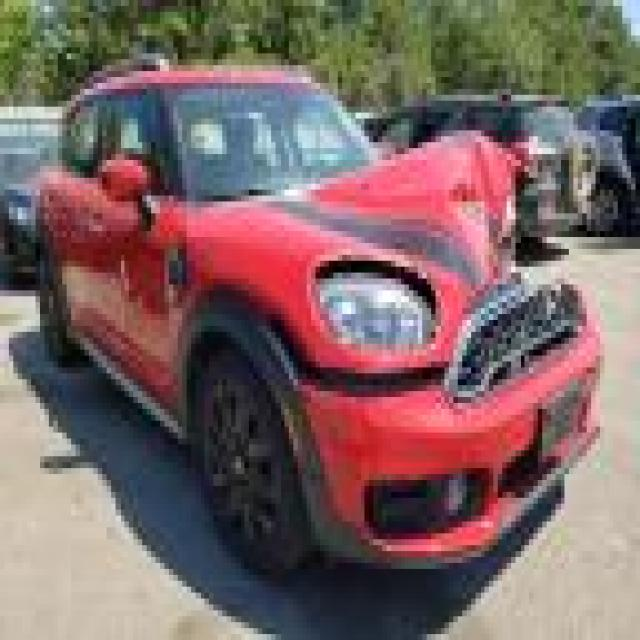moderate: (257, 150, 611, 458)
